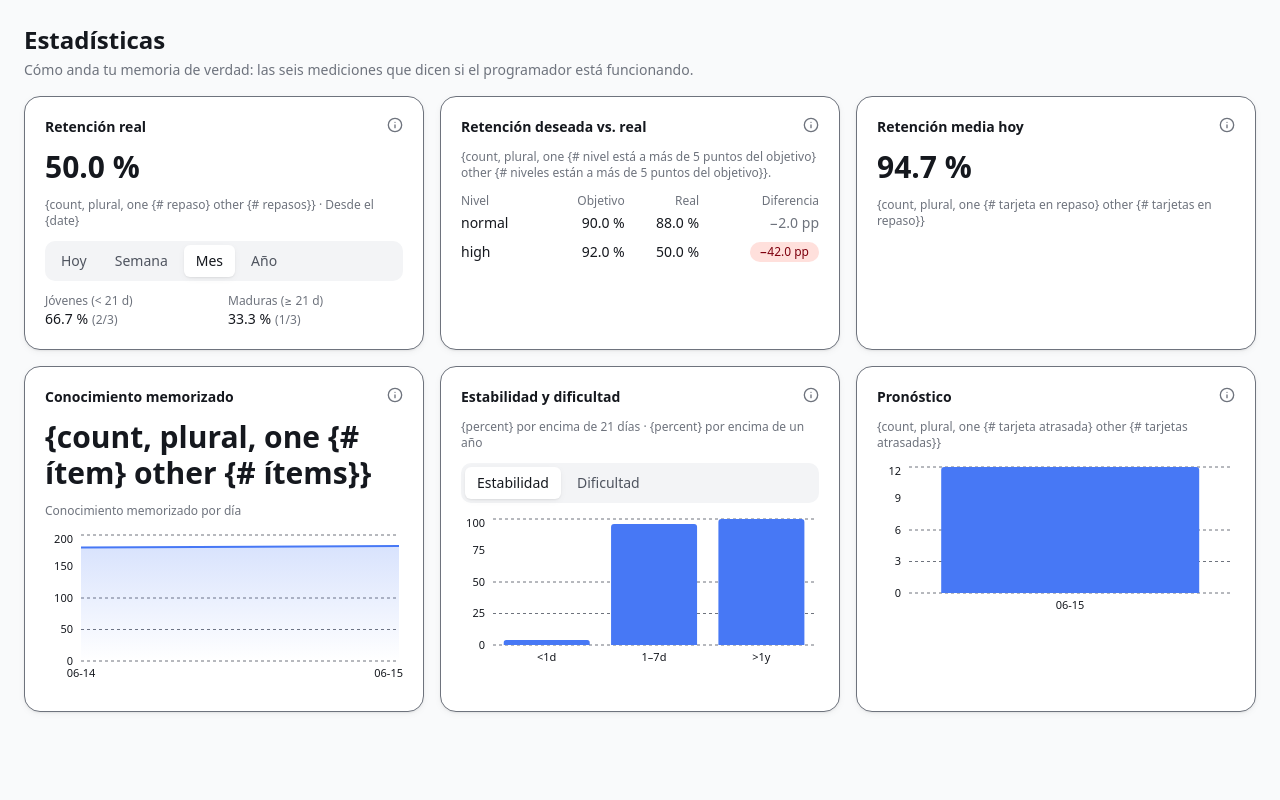
Test case: StatsScreen › reads another window only when the switcher asks for one
The width and height of the screenshot is (1280, 800).
Expected: the element with test id "stat-true-retention" is shown, [24,96,424,350]
Step 1. Click the radio button labelled "Hoy" → (74, 261), box [49,245,99,277]
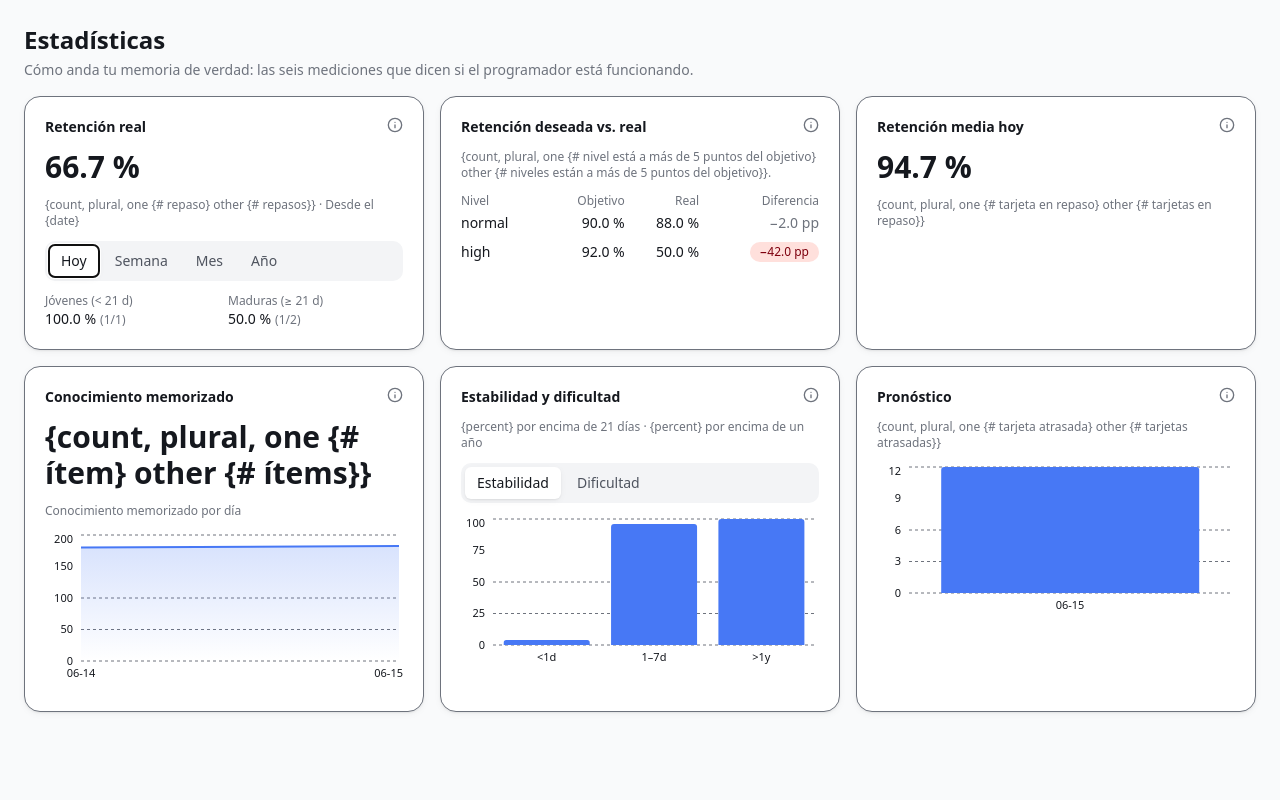
Now the text with test id "stat-true-retention-value" reads "66.7 %", box [45,146,140,187]
